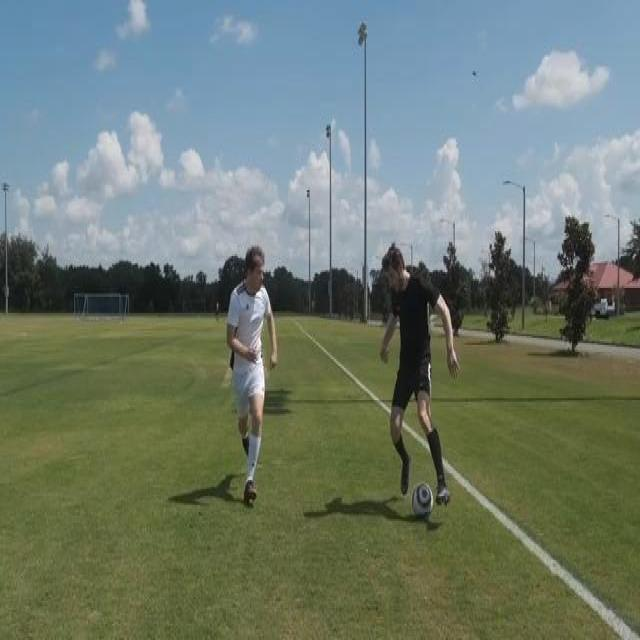Soccer Ball: (412, 480, 434, 521)
